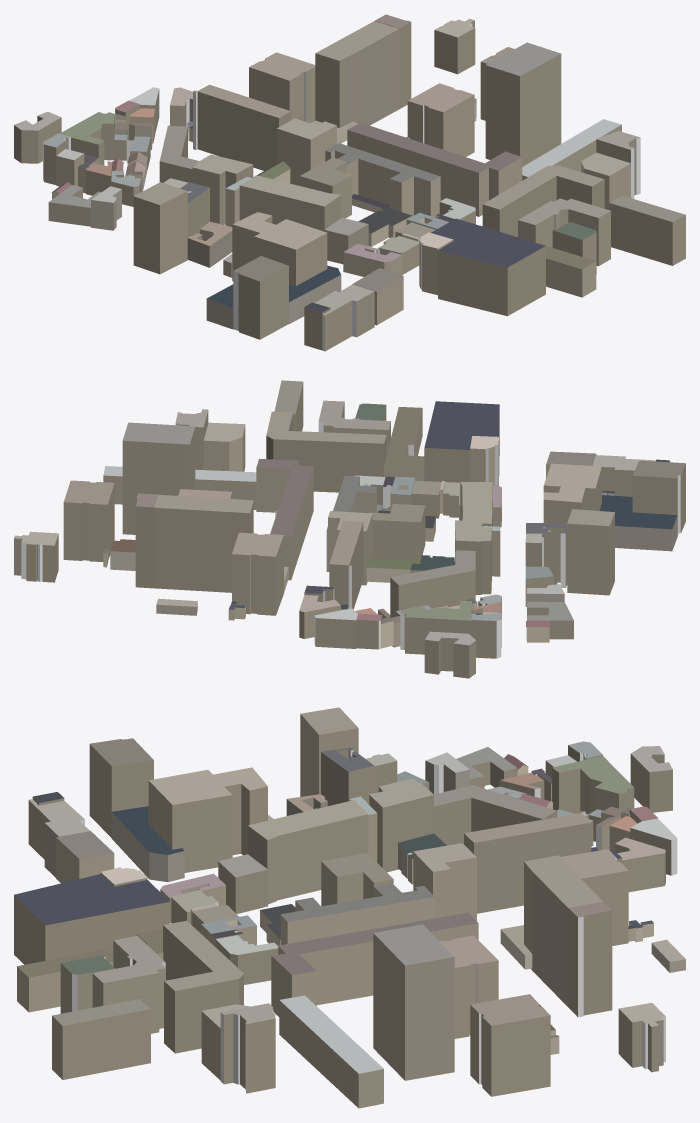
3 renders of one model, top to bottom at view 1: azimuth 30°, elevation 25°; view 2: azimuth 150°, elevation 25°; view 3: azimuth 270°, elevation 25°, orthographic. The views are drawn at different scales.
Visible parts, largest first — view 1: tuile; view 2: tuile; view 3: tuile.
Boxes of the visible parts, x1,y1,x2,y2 form: tuile: (14,14,685,351); tuile: (14,380,685,678); tuile: (14,707,685,1108).
Bounding box in the file's own units: 284 × 51.95 × 257.
